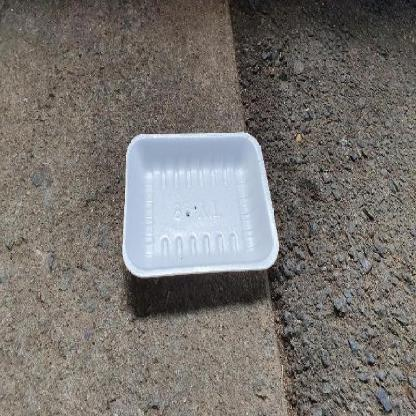Glass Cup: (122, 132, 279, 277), (123, 132, 279, 277)
